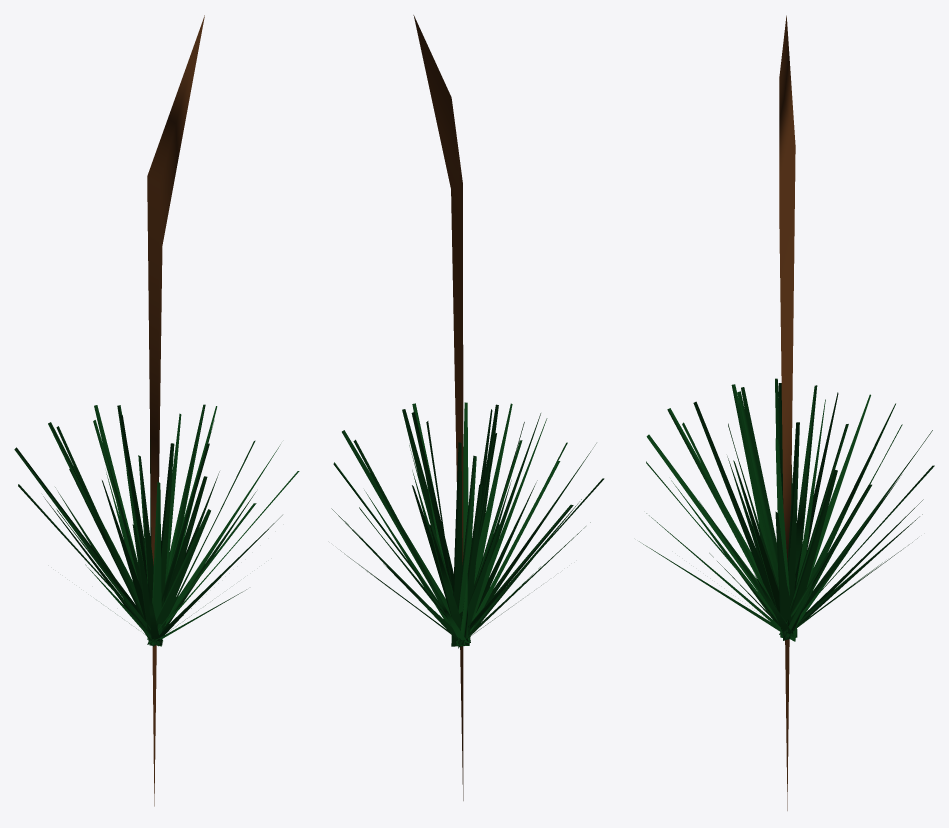
File: DesertSpoon_LOD1.obj
The picture shows the model from 3 angles, left to right: view 1: azimuth 30°, elevation 25°; view 2: azimuth 150°, elevation 25°; view 3: azimuth 270°, elevation 25°; orthographic projection. The views are drawn at different scales.
Visible parts, largest first — view 1: DesertSpoon_LOD1; view 2: DesertSpoon_LOD1; view 3: DesertSpoon_LOD1.
Boxes of the visible parts, x1,y1,x2,y2 form: DesertSpoon_LOD1: [14, 15, 299, 806]; DesertSpoon_LOD1: [331, 15, 604, 800]; DesertSpoon_LOD1: [639, 15, 934, 810].
Bounding box in the file's own units: 92.22 × 278 × 92.14.
